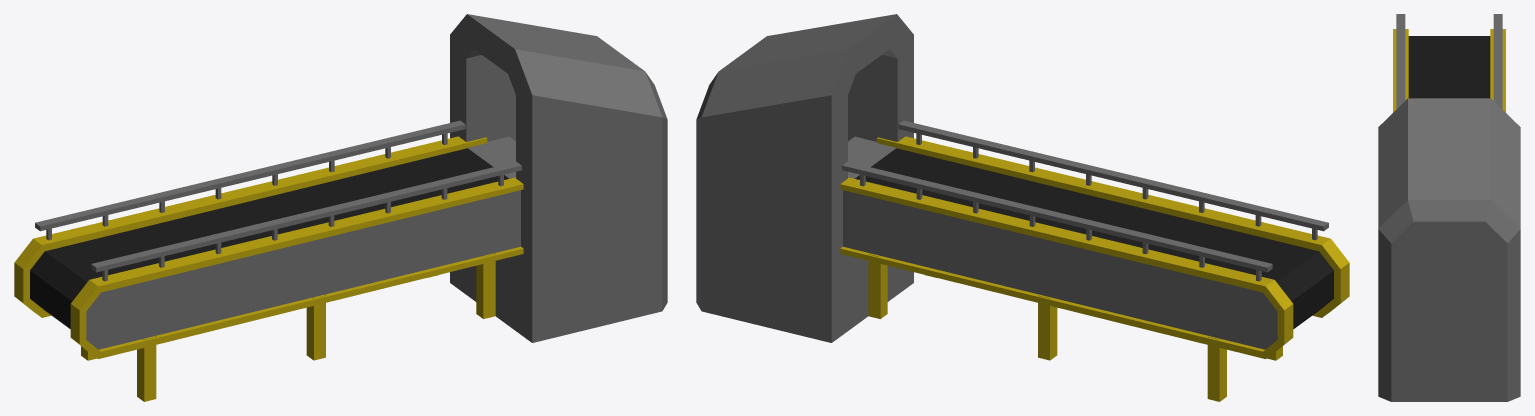
File: conveyor.glb
3 renders of one model, left to right at view 1: azimuth 30°, elevation 25°; view 2: azimuth 150°, elevation 25°; view 3: azimuth 270°, elevation 25°, orthographic. The views are drawn at different scales.
Visible parts, largest first — view 1: conveyor; view 2: conveyor; view 3: conveyor.
Part boxes in pixels (x1,y1,x2,y2): conveyor: (14,14,667,401); conveyor: (696,14,1349,401); conveyor: (1378,14,1520,401).
Size of the model in its own units: 10.38 by 4.75 by 2.53.
